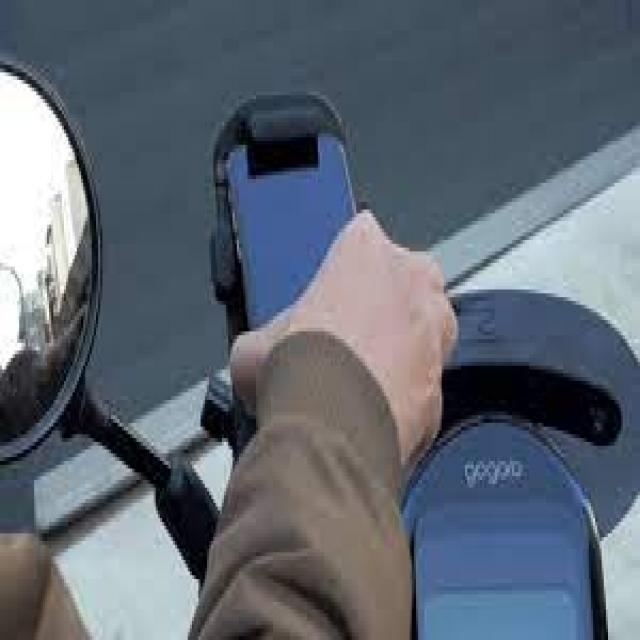Phone: (224, 133, 361, 330)
